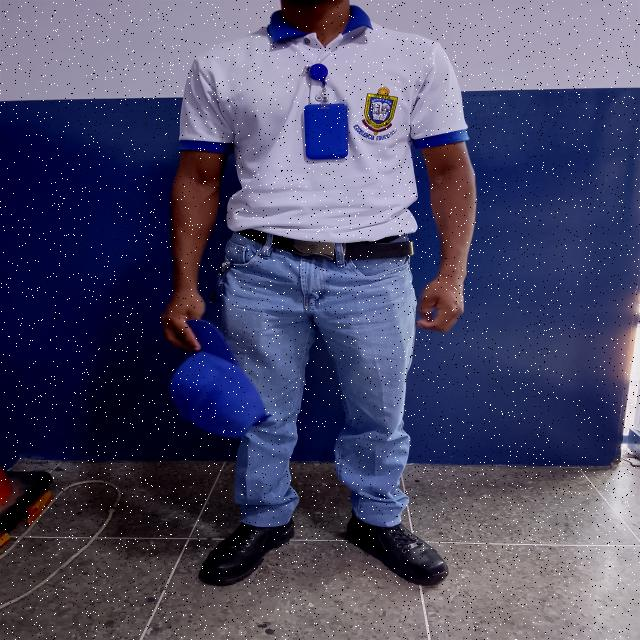carnet: (304, 103, 348, 160)
uniforme_superior: (178, 5, 470, 243)
